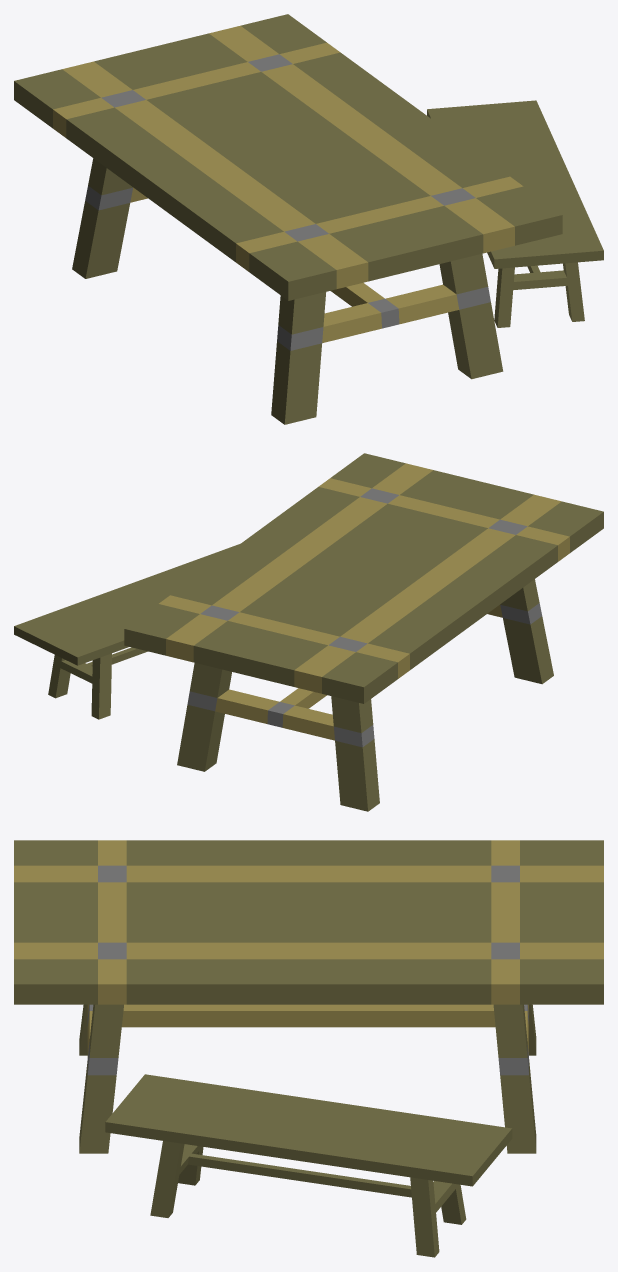
Rendered from Table.fbx.
The picture shows the model from 3 angles, top to bottom: view 1: azimuth 30°, elevation 25°; view 2: azimuth 150°, elevation 25°; view 3: azimuth 270°, elevation 25°; orthographic projection. The views are drawn at different scales.
Parts seen in each view (by area): view 1: Cube; view 2: Cube; view 3: Cube.
Part boxes in pixels (x1,y1,x2,y2): Cube: (14, 14, 603, 424); Cube: (14, 453, 603, 811); Cube: (14, 840, 603, 1257).
Size of the model in its own units: 252 by 90.59 by 260.
